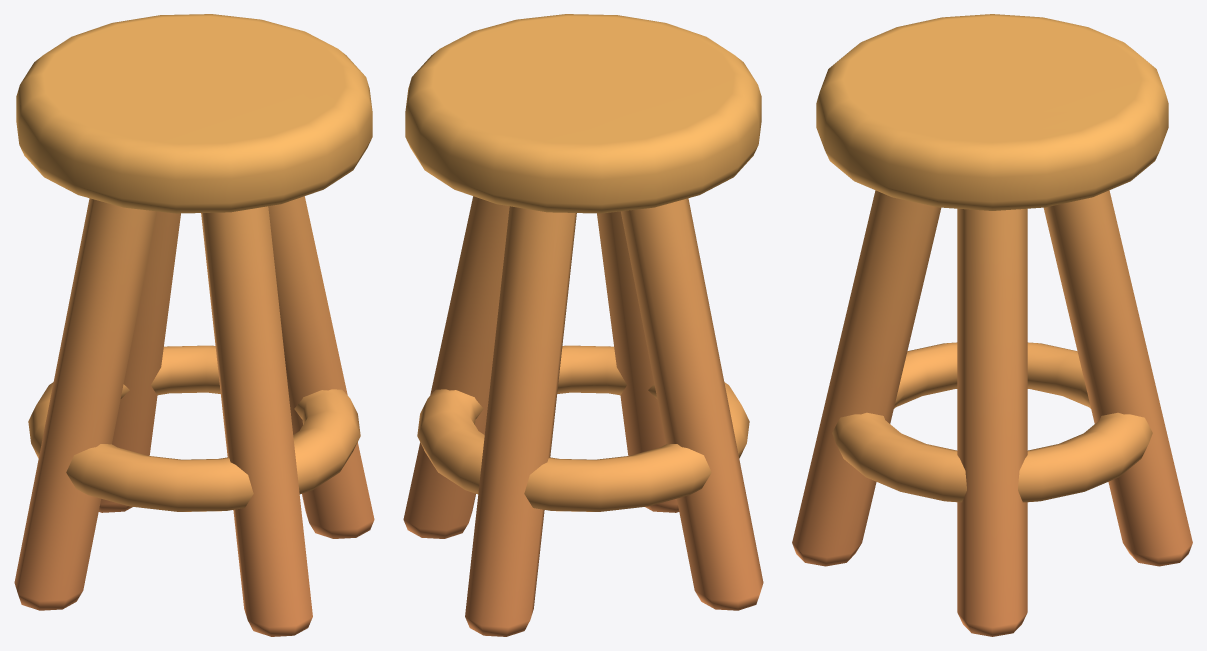
File: Chair_17.glb
3 views of the same model, side by side, from view 1: azimuth 30°, elevation 25°; view 2: azimuth 150°, elevation 25°; view 3: azimuth 270°, elevation 25° (orthographic).
Parts seen in each view (by area): view 1: Chair_17; view 2: Chair_17; view 3: Chair_17.
Boxes of the visible parts, x1=… form: Chair_17: x1=14, y1=14, x2=374, y2=636; Chair_17: x1=403, y1=14, x2=763, y2=636; Chair_17: x1=792, y1=14, x2=1192, y2=636.
Size of the model in its own units: 0.4549 by 0.6 by 0.4549.
1 material, 1 textured.
